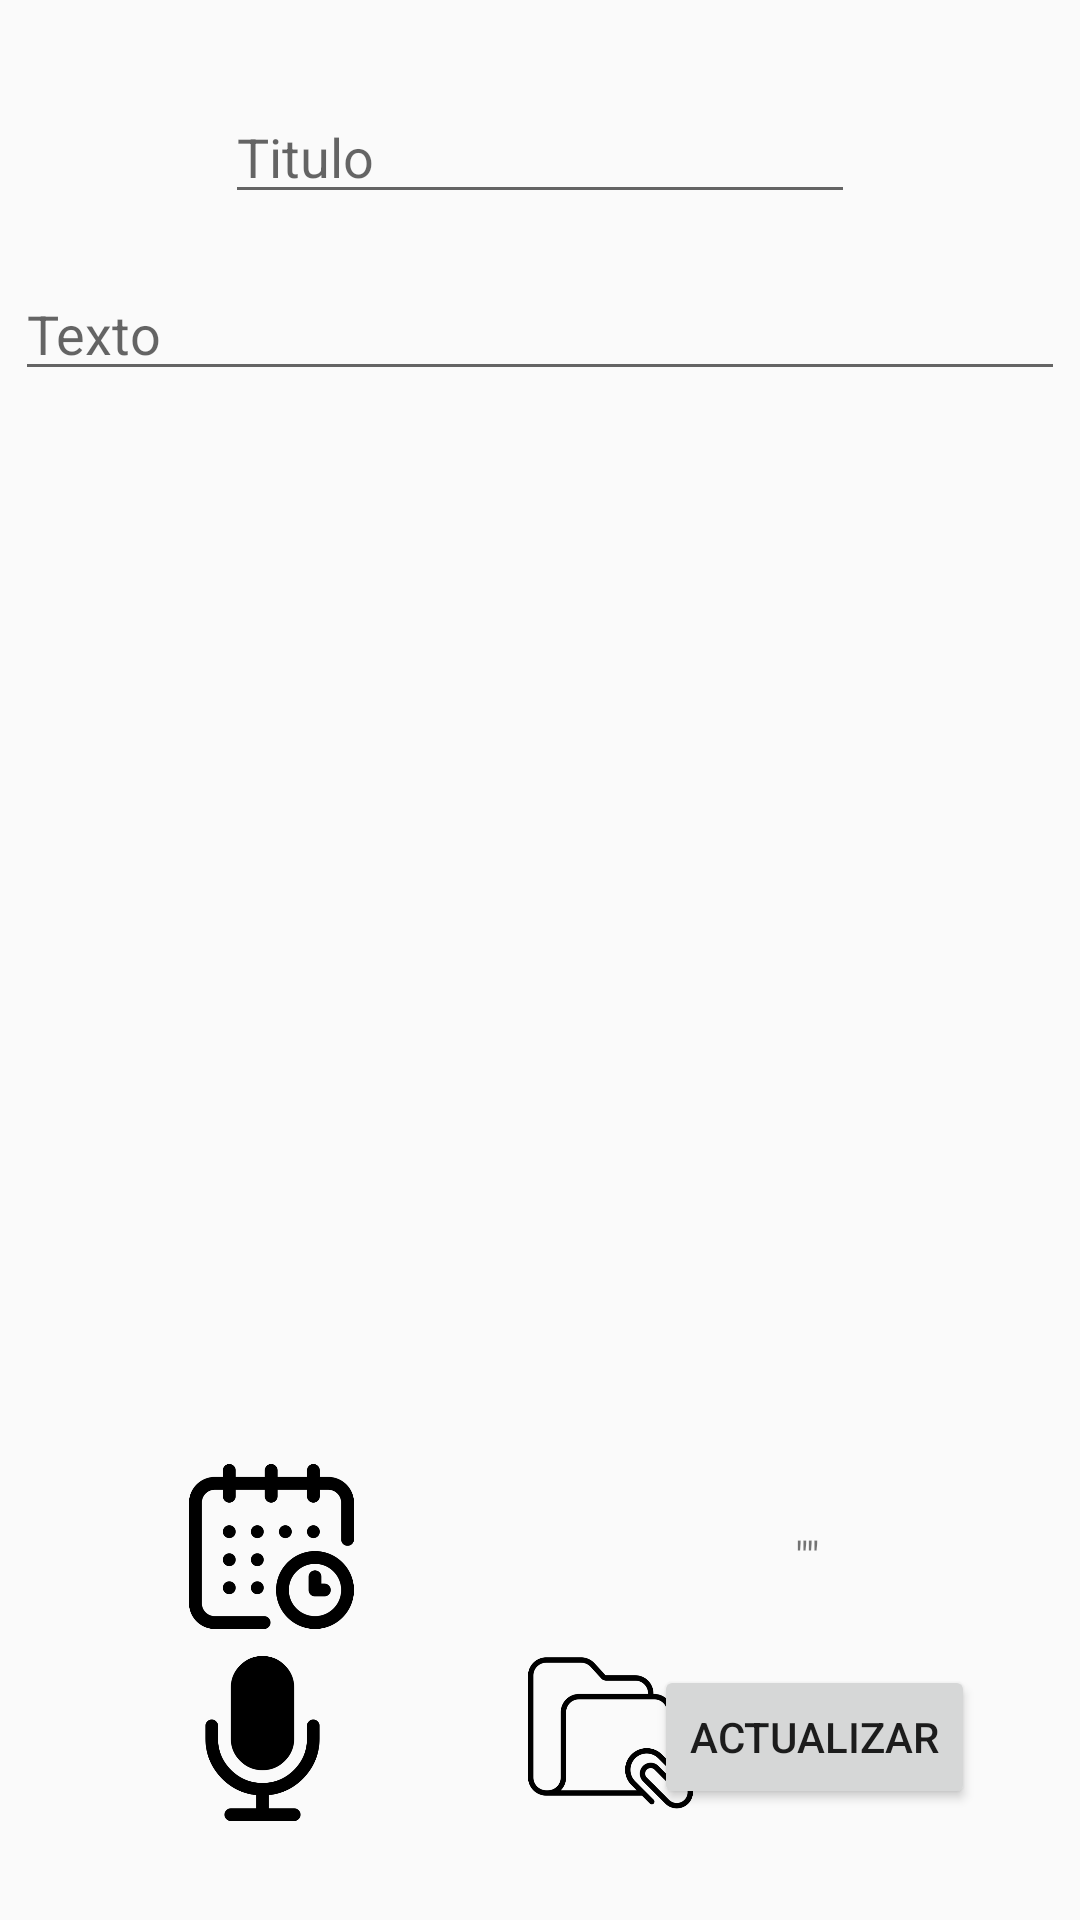

Icons on this 1080 × 1920 Android screen, each with the point to tap as [x,y]:
calendario: [271,1546]
carpeta: [610,1733]
forma de microfono negro: [262,1738]
